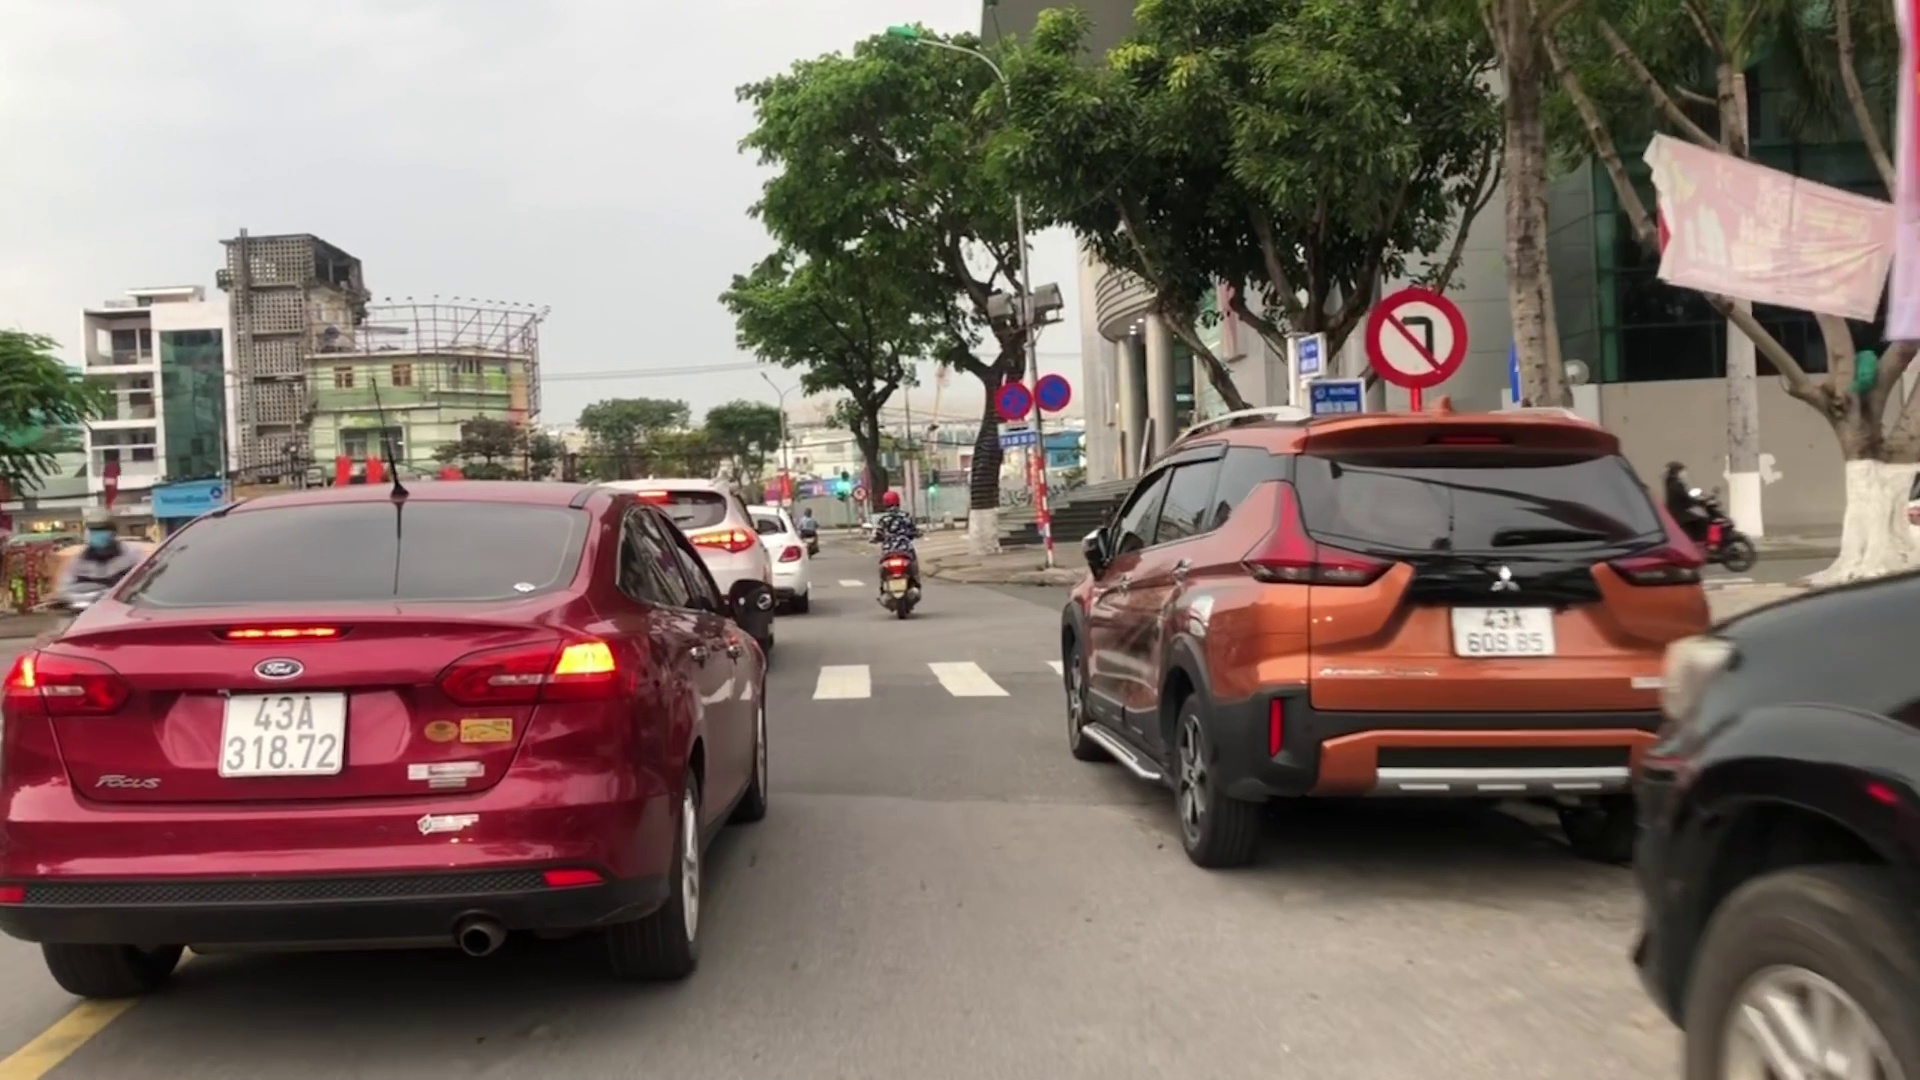Bien khac: (1360, 286, 1472, 388), (992, 377, 1033, 423)
Cam do xe: (1033, 368, 1071, 414)
